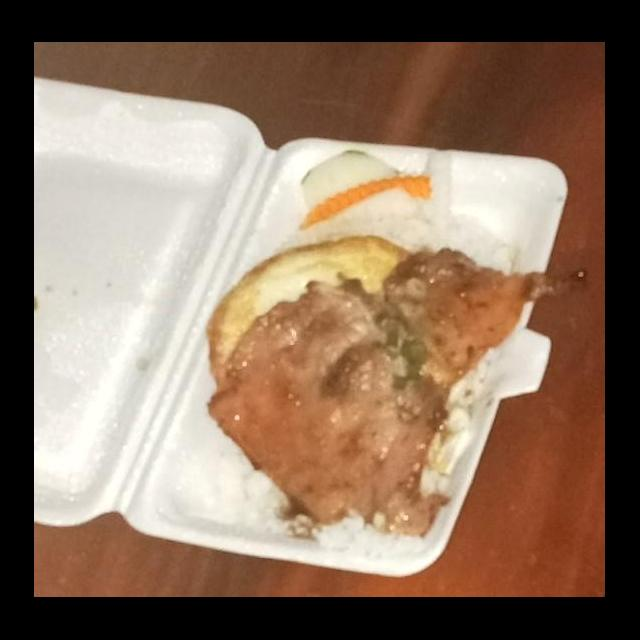com: (388, 202, 520, 282)
dua chua: (282, 148, 456, 252)
suon: (202, 243, 592, 542)
trung: (204, 230, 420, 400)
